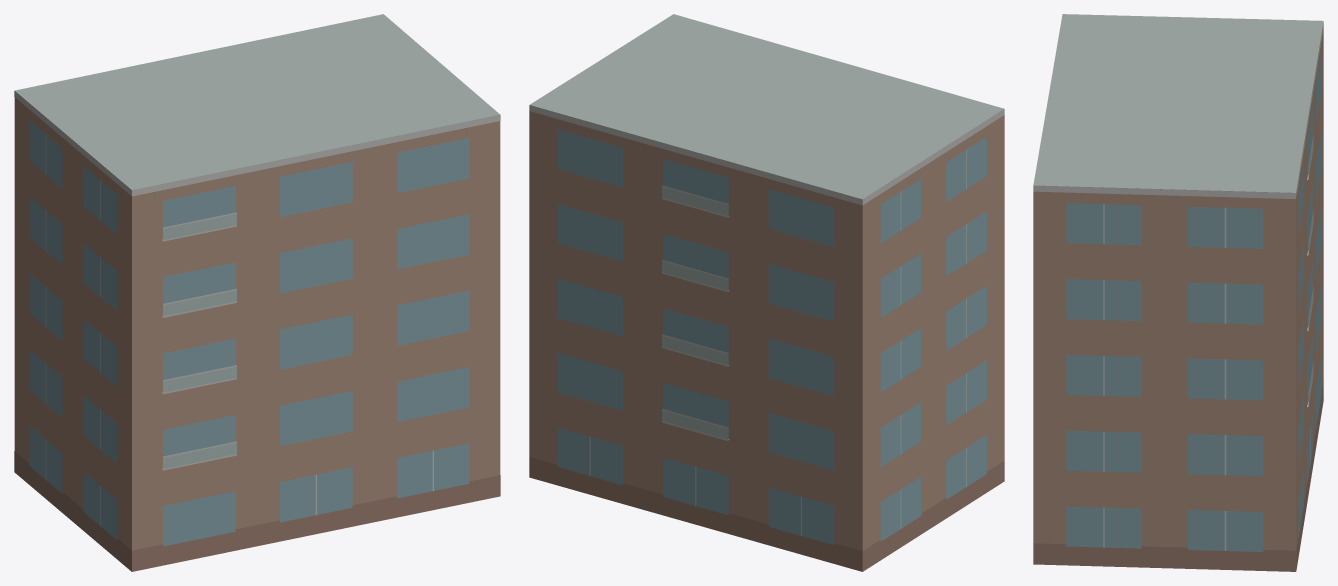
The model's file is survey-upis-32750020.glb.
3 views of the same model, side by side, from view 1: azimuth 30°, elevation 25°; view 2: azimuth 150°, elevation 25°; view 3: azimuth 270°, elevation 25° (orthographic). The views are drawn at different scales.
Visible parts, largest first — view 1: survey-upis-32750020.tmp; view 2: survey-upis-32750020.tmp; view 3: survey-upis-32750020.tmp.
Part boxes in pixels (left/top/right/bottom): survey-upis-32750020.tmp: left=14, top=14, right=500, bottom=571; survey-upis-32750020.tmp: left=529, top=14, right=1004, bottom=571; survey-upis-32750020.tmp: left=1033, top=14, right=1323, bottom=571.
Size of the model in its own units: 15.1 by 14.9 by 10.36.
